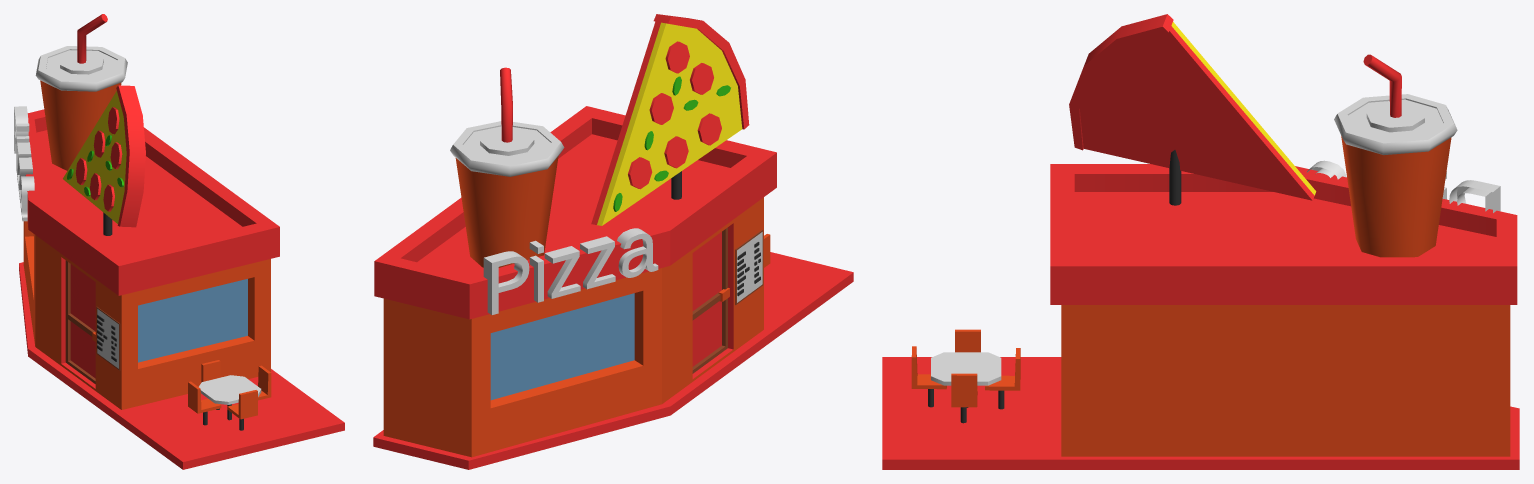
The model's file is Shop_Pizza.fbx.
3 renders of one model, left to right at view 1: azimuth 30°, elevation 25°; view 2: azimuth 150°, elevation 25°; view 3: azimuth 270°, elevation 25°, orthographic. The views are drawn at different scales.
Visible parts, largest first — view 1: Shop_Pizza; view 2: Shop_Pizza; view 3: Shop_Pizza.
Part boxes in pixels (<box>): Shop_Pizza: <box>14,14,344,469</box>; Shop_Pizza: <box>373,14,853,469</box>; Shop_Pizza: <box>882,14,1519,469</box>.
Bounding box in the file's own units: 63.22 × 110 × 166.
